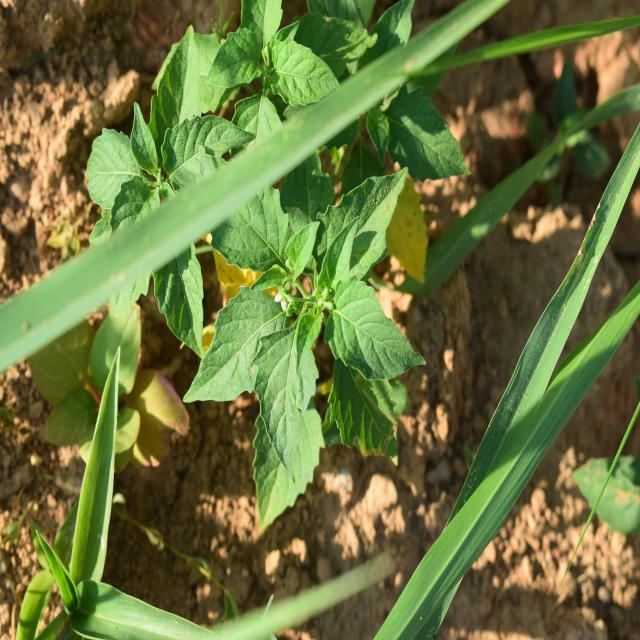Black_nightshade: (188, 208, 416, 486), (121, 29, 321, 158)
